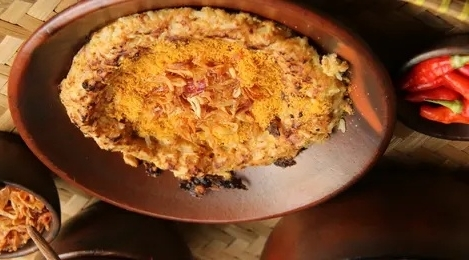kerak_telor: (58, 8, 351, 178)
